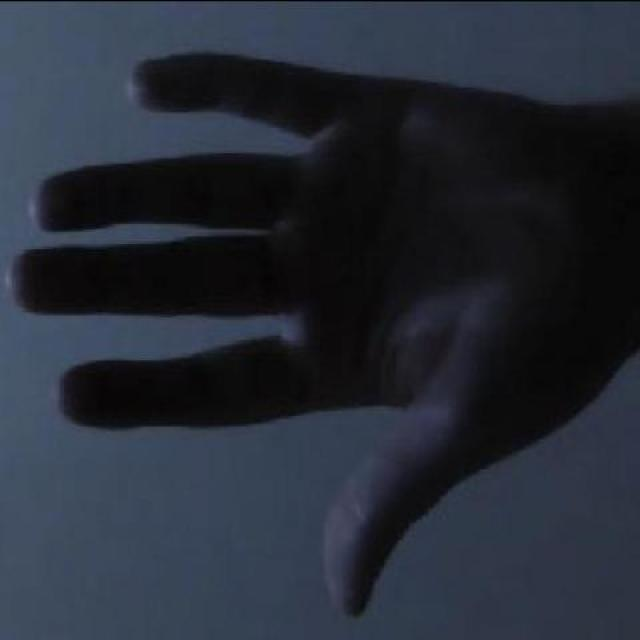Open Hand: (2, 46, 640, 616)
